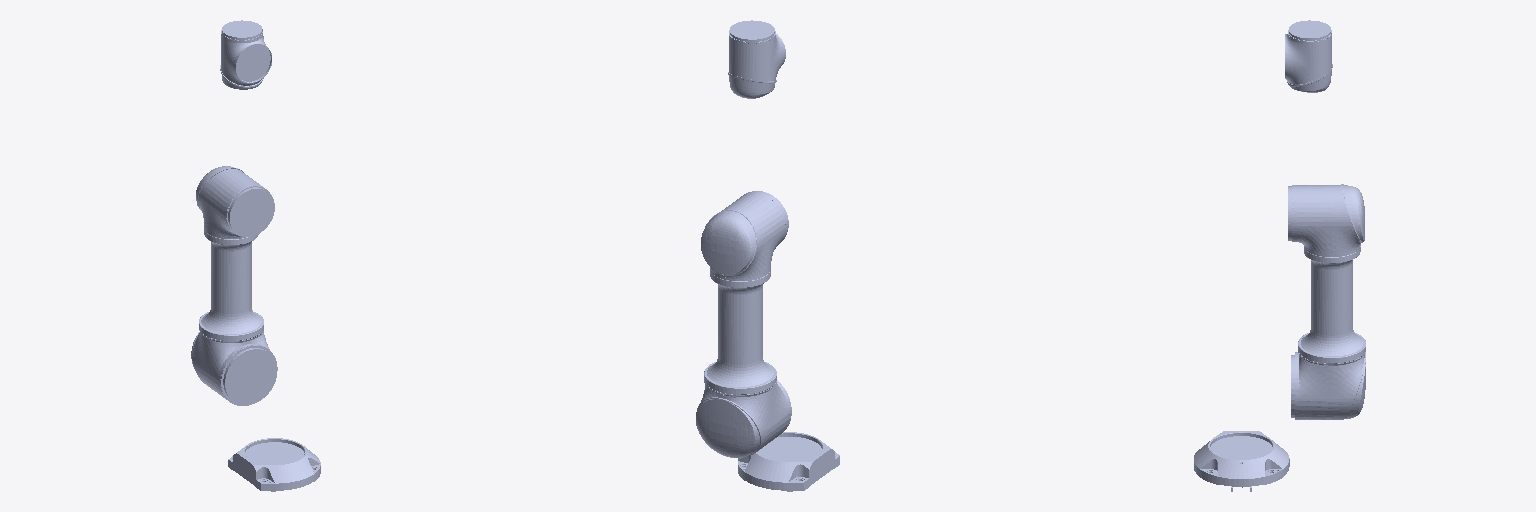
robot.urdf — gcr20_1100:
<?xml version="1.0" encoding="utf-8"?>
<!-- This URDF was automatically created by SolidWorks to URDF Exporter! Originally created by [author] ([email redacted]) 
     Commit Version: 1.6.0-4-g7f85cfe  Build Version: 1.6.7995.38578
     For more information, please see http://wiki.ros.org/sw_urdf_exporter -->
<robot
  name="gcr20_1100">
  <link
    name="base_link">
    <inertial>
      <origin
        xyz="1.0276E-05 0.014119 0.064841"
        rpy="0 0 0" />
      <mass
        value="2.128" />
      <inertia
        ixx="0.013624"
        ixy="-1.2075E-05"
        ixz="1.8225E-06"
        iyy="0.018307"
        iyz="0.00049878"
        izz="0.023934" />
    </inertial>
    <visual>
      <origin
        xyz="0 0 0"
        rpy="0 0 0" />
      <geometry>
        <mesh
          filename="package://duco_support/meshes/GCR20_1100/base_link.stl" />
      </geometry>
      <material
        name="">
        <color
          rgba="0.79216 0.81961 0.93333 1" />
      </material>
    </visual>
    <collision>
      <origin
        xyz="0 0 0"
        rpy="0 0 0" />
      <geometry>
        <mesh
          filename="package://duco_support/meshes/GCR20_1100/base_link.stl" />
      </geometry>
    </collision>
  </link>
  <link
    name="link_1">
    <inertial>
      <origin
        xyz="1.0951E-07 0.021145 0.0017549"
        rpy="0 0 0" />
      <mass
        value="14.725" />
      <inertia
        ixx="0.066928"
        ixy="3.4809E-07"
        ixz="2.7188E-07"
        iyy="0.06743"
        iyz="-0.0064955"
        izz="0.071272" />
    </inertial>
    <visual>
      <origin
        xyz="0 0 0"
        rpy="0 0 0" />
      <geometry>
        <mesh
          filename="package://duco_support/meshes/GCR20_1100/link_1.stl" />
      </geometry>
      <material
        name="">
        <color
          rgba="0.73333 0.78039 0.83922 1" />
      </material>
    </visual>
    <collision>
      <origin
        xyz="0 0 0"
        rpy="0 0 0" />
      <geometry>
        <mesh
          filename="package://duco_support/meshes/GCR20_1100/link_1.stl" />
      </geometry>
    </collision>
  </link>
  <joint
    name="arm_1_joint_1"
    type="revolute">
    <origin
      xyz="0 0 0.235"
      rpy="0 0 0" />
    <parent
      link="base_link" />
    <child
      link="link_1" />
    <axis
      xyz="0 0 1" />
    <limit
      lower="-3.1415926"
      upper="3.1415926"
      effort="850"
      velocity="2.094395102" />
  </joint>
  <link
    name="link_2">
    <inertial>
      <origin
        xyz="0.19999 -7.3565E-07 0.037425"
        rpy="0 0 0" />
      <mass
        value="25.912" />
      <inertia
        ixx="0.11326"
        ixy="-9.4175E-07"
        ixz="-0.0039858"
        iyy="0.16267"
        iyz="1.1586E-06"
        izz="0.16558" />
    </inertial>
    <visual>
      <origin
        xyz="0 0 0"
        rpy="0 0 0" />
      <geometry>
        <mesh
          filename="package://duco_support/meshes/GCR20_1100/link_2.stl" />
      </geometry>
      <material
        name="">
        <color
          rgba="0.79216 0.81961 0.93333 1" />
      </material>
    </visual>
    <collision>
      <origin
        xyz="0 0 0"
        rpy="0 0 0" />
      <geometry>
        <mesh
          filename="package://duco_support/meshes/GCR20_1100/link_2.stl" />
      </geometry>
    </collision>
  </link>
  <joint
    name="arm_1_joint_2"
    type="revolute">
    <origin
      xyz="0 0.1793 0"
      rpy="1.5708 -1.5708 3.1416" />
    <parent
      link="link_1" />
    <child
      link="link_2" />
    <axis
      xyz="0 0 1" />
    <limit
      lower="-3.1415926"
      upper="3.1415926"
      effort="850"
      velocity="2.094395102" />
  </joint>
  <link
    name="link_3">
    <inertial>
      <origin
        xyz="0.20158 -1.857E-07 -0.13238"
        rpy="0 0 0" />
      <mass
        value="7.595" />
      <inertia
        ixx="0.029966"
        ixy="1.4877E-07"
        ixz="0.0014216"
        iyy="0.076218"
        iyz="-3.8408E-08"
        izz="0.076757" />
    </inertial>
    <visual>
      <origin
        xyz="0 0 0"
        rpy="0 0 0" />
      <geometry>
        <mesh
          filename="package://duco_support/meshes/GCR20_1100/link_3.stl" />
      </geometry>
      <material
        name="">
        <color
          rgba="0.79216 0.81961 0.93333 1" />
      </material>
    </visual>
    <collision>
      <origin
        xyz="0 0 0"
        rpy="0 0 0" />
      <geometry>
        <mesh
          filename="package://duco_support/meshes/GCR20_1100/link_3.stl" />
      </geometry>
    </collision>
  </link>
  <joint
    name="arm_1_joint_3"
    type="revolute">
    <origin
      xyz="0.496 0 0"
      rpy="0 0 0" />
    <parent
      link="link_2" />
    <child
      link="link_3" />
    <axis
      xyz="0 0 1" />
    <limit
      lower="-3.1415926"
      upper="3.1415926"
      effort="440"
      velocity="3.1415926" />
  </joint>
  <link
    name="link_4">
    <inertial>
      <origin
        xyz="-8.671E-07 -0.0017736 -0.014039"
        rpy="0 0 0" />
      <mass
        value="4.705" />
      <inertia
        ixx="0.008699"
        ixy="-6.6695E-08"
        ixz="1.574E-08"
        iyy="0.0082917"
        iyz="0.00074702"
        izz="0.0086035" />
    </inertial>
    <visual>
      <origin
        xyz="0 0 0"
        rpy="0 0 0" />
      <geometry>
        <mesh
          filename="package://duco_support/meshes/GCR20_1100/link_4.stl" />
      </geometry>
      <material
        name="">
        <color
          rgba="0.79216 0.81961 0.93333 1" />
      </material>
    </visual>
    <collision>
      <origin
        xyz="0 0 0"
        rpy="0 0 0" />
      <geometry>
        <mesh
          filename="package://duco_support/meshes/GCR20_1100/link_4.stl" />
      </geometry>
    </collision>
  </link>
  <joint
    name="arm_1_joint_4"
    type="revolute">
    <origin
      xyz="0.4595 0 0"
      rpy="0 0 1.5708" />
    <parent
      link="link_3" />
    <child
      link="link_4" />
    <axis
      xyz="0 0 1" />
    <limit
      lower="-3.1415926"
      upper="3.1415926"
      effort="205"
      velocity="3.926990817" />
  </joint>
  <link
    name="link_5">
    <inertial>
      <origin
        xyz="-2.7502E-07 0.0017736 -0.014039"
        rpy="0 0 0" />
      <mass
        value="4.705" />
      <inertia
        ixx="0.008699"
        ixy="1.3768E-07"
        ixz="-1.0778E-07"
        iyy="0.0082917"
        iyz="-0.00074702"
        izz="0.0086035" />
    </inertial>
    <visual>
      <origin
        xyz="0 0 0"
        rpy="0 0 0" />
      <geometry>
        <mesh
          filename="package://duco_support/meshes/GCR20_1100/link_5.stl" />
      </geometry>
      <material
        name="">
        <color
          rgba="0.79216 0.81961 0.93333 1" />
      </material>
    </visual>
    <collision>
      <origin
        xyz="0 0 0"
        rpy="0 0 0" />
      <geometry>
        <mesh
          filename="package://duco_support/meshes/GCR20_1100/link_5.stl" />
      </geometry>
    </collision>
  </link>
  <joint
    name="arm_1_joint_5"
    type="revolute">
    <origin
      xyz="0 -0.1445 0"
      rpy="1.5708 0 0" />
    <parent
      link="link_4" />
    <child
      link="link_5" />
    <axis
      xyz="0 0 1" />
    <limit
      lower="-3.1415926"
      upper="3.1415926"
      effort="205"
      velocity="3.926990817" />
  </joint>
  <link
    name="link_6">
    <inertial>
      <origin
        xyz="2.5622E-07 0.00026203 -0.032568"
        rpy="0 0 0" />
      <mass
        value="1.652" />
      <inertia
        ixx="0.0010085"
        ixy="2.8568E-19"
        ixz="-1.2409E-18"
        iyy="0.0010085"
        iyz="-1.2499E-18"
        izz="0.0018936" />
    </inertial>
    <visual>
      <origin
        xyz="0 0 0"
        rpy="0 0 0" />
      <geometry>
        <mesh
          filename="package://duco_support/meshes/GCR20_1100/link_6.stl" />
      </geometry>
      <material
        name="">
        <color
          rgba="0.86667 0.86667 0.8902 1" />
      </material>
    </visual>
    <collision>
      <origin
        xyz="0 0 0"
        rpy="0 0 0" />
      <geometry>
        <mesh
          filename="package://duco_support/meshes/GCR20_1100/link_6.stl" />
      </geometry>
    </collision>
  </link>
  <joint
    name="arm_1_joint_6"
    type="revolute">
    <origin
      xyz="0 0.121 0"
      rpy="-1.5708 0 0" />
    <parent
      link="link_5" />
    <child
      link="link_6" />
    <axis
      xyz="0 0 1" />
    <limit
      lower="-3.1415926"
      upper="3.1415926"
      effort="205"
      velocity="3.926990817" />
  </joint>
</robot>

--- What the picture shows (computed from the rendered views, not written in the file) ---
The picture shows the robot from 3 angles, left to right: view 1: azimuth 30°, elevation 25°; view 2: azimuth 150°, elevation 25°; view 3: azimuth 270°, elevation 25°; orthographic projection.
Robot: gcr20_1100 — 7 links, 6 joints (6 revolute); root link base_link; default pose: all joints at 0.
Visible links, largest first — view 1: link_2, base_link, link_4; view 2: link_2, base_link, link_4; view 3: link_2, base_link, link_4.
Boxes of the visible links, x1,y1,x2,y2 form: link_2: [191, 166, 277, 405]; base_link: [228, 438, 320, 491]; link_4: [220, 20, 271, 89]; link_2: [696, 191, 791, 457]; base_link: [738, 432, 839, 491]; link_4: [728, 20, 785, 98]; link_2: [1288, 184, 1365, 419]; base_link: [1194, 431, 1289, 491]; link_4: [1285, 20, 1332, 92].
Bounding box of the posed robot: 0.2208 × 0.4538 × 1.31 m (x, y, z).
3 mesh visuals loaded from 7 distinct referenced files (3 binary STL); not drawn: 4 (reference not matched to a file when rendering).